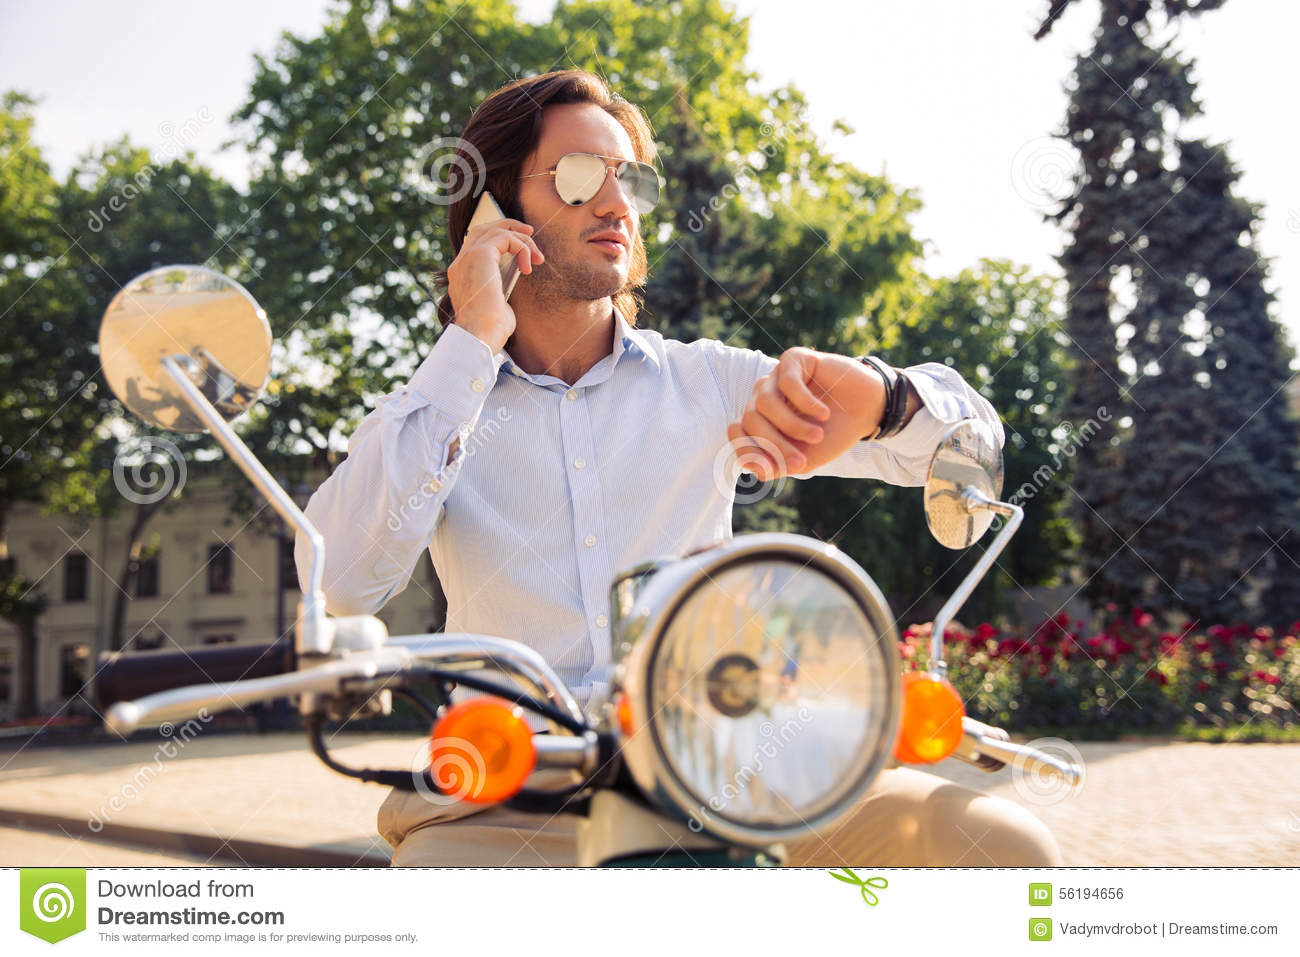phone: (461, 189, 521, 301)
talk: (440, 151, 639, 356)
